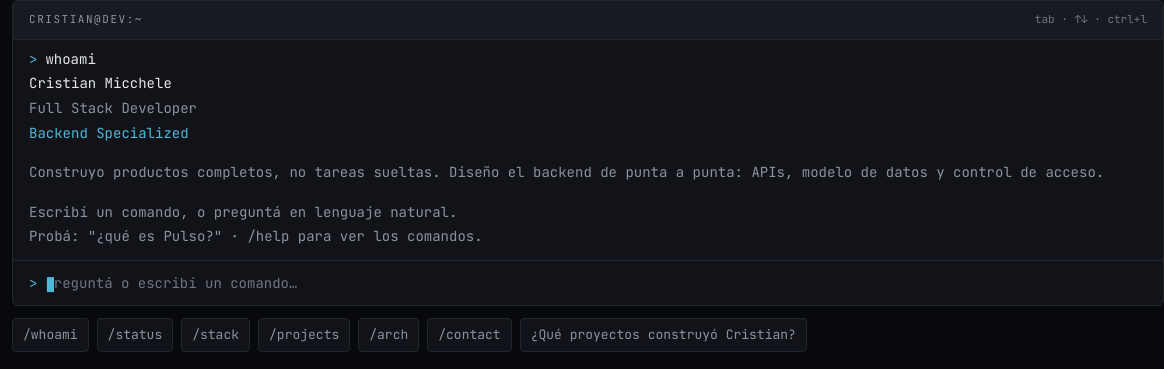
Test: Console — una sola, dos formas de hablarle › Ctrl+L limpia
Click the field named "consola": (596, 283) [45, 273, 1147, 293]
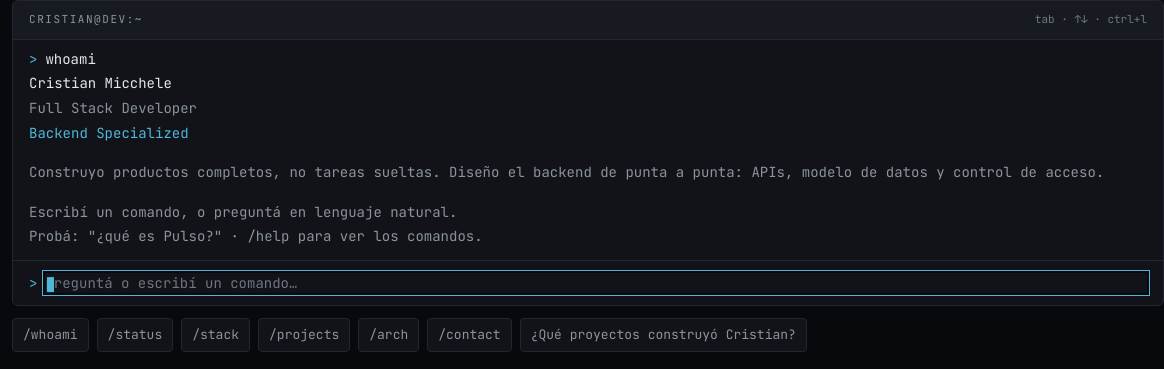
Type keys "{Control>}l{/Control}"
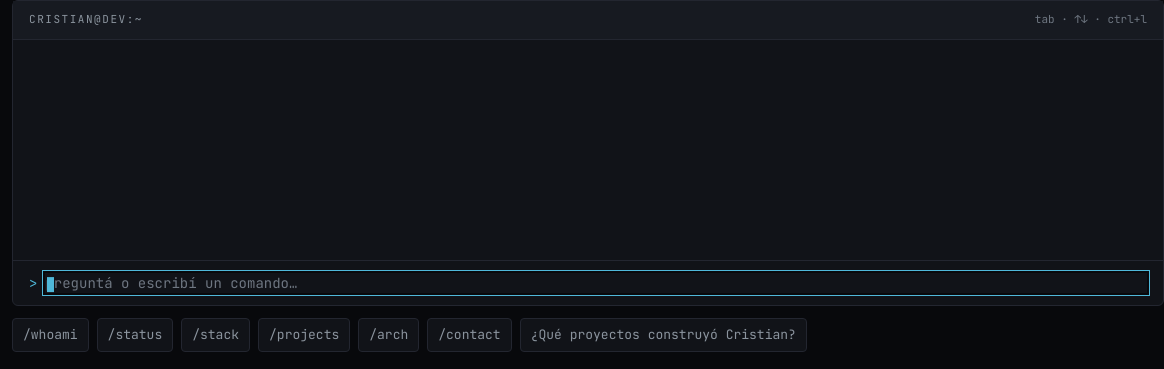
Now the text "Cristian Micchele" is gone
